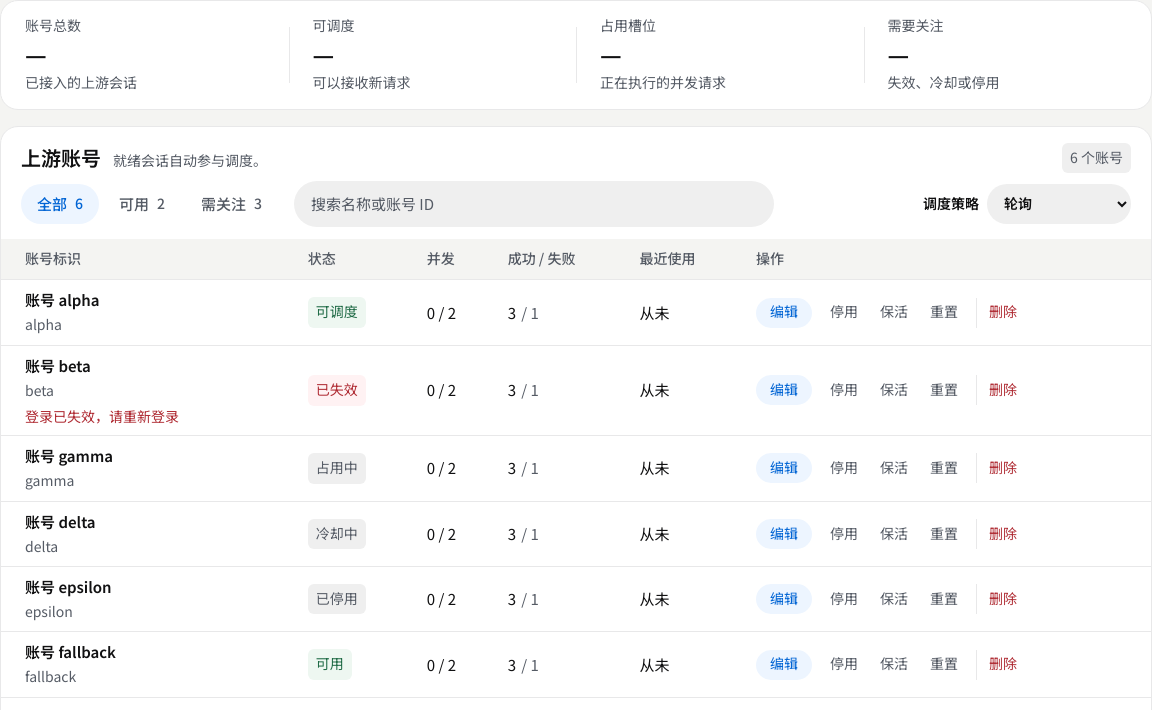
Test case: 账号池 › 按有效状态筛选、保留 busy、支持状态回退及名称/ID 搜索
This screenshot has width=1152, height=710.
Click the button "可用 2": (142,204) 103,184 -> 181,224
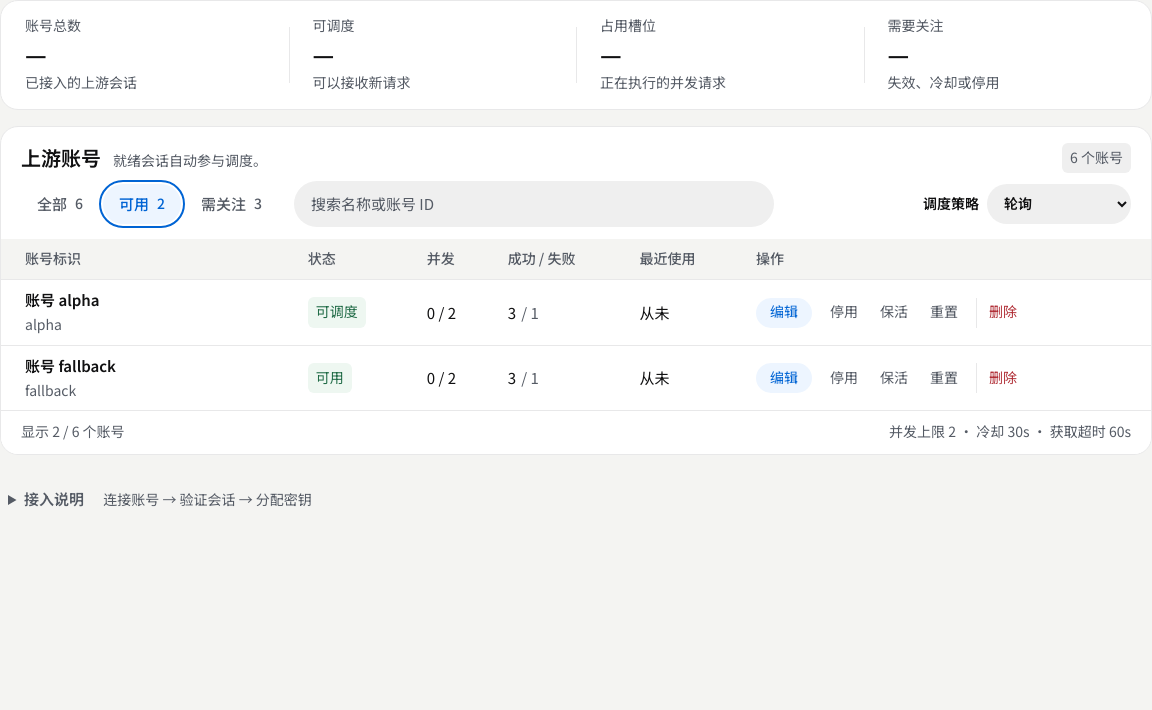
expect the text "账号 alpha" is shown: met, box 25,288 -> 100,312
expect the text "账号 beta" is gone: met
Click the button "需关注 3": (232,204) 185,184 -> 278,224
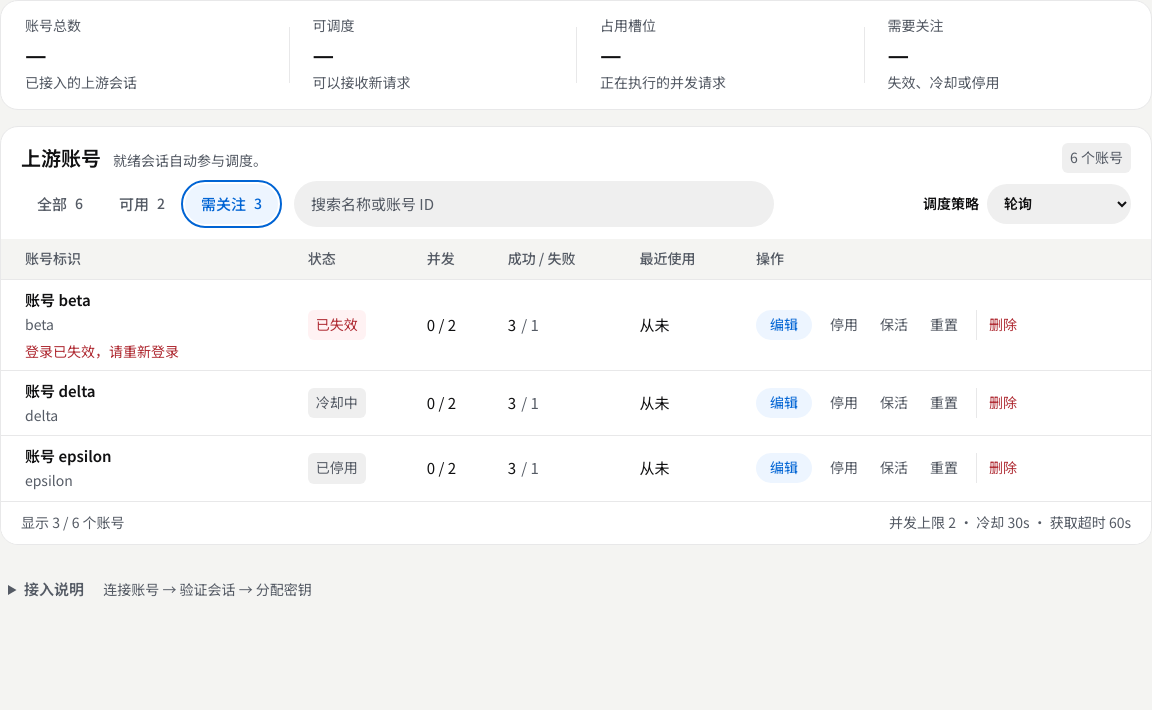
expect the text "账号 gamma" is not shown: met
expect the text "账号 beta" is shown: met, box 25,291 -> 91,309
expect the text "账号 delta" is shown: met, box 25,379 -> 96,403
In the field named "搜索账号": (534,204) 294,181 -> 774,227, type " BETA "
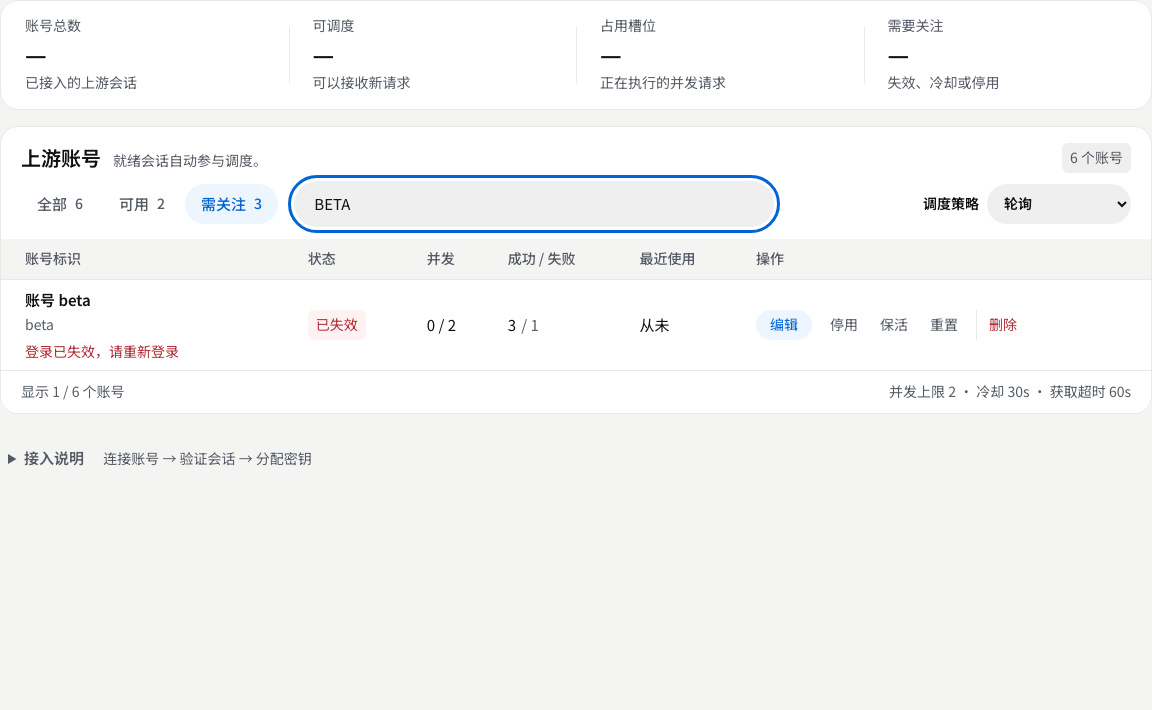
expect the text "账号 beta" is shown: met, box 25,291 -> 91,309
expect the text "账号 delta" is gone: met
Click the button "全部 6": (60,204) 21,184 -> 99,224
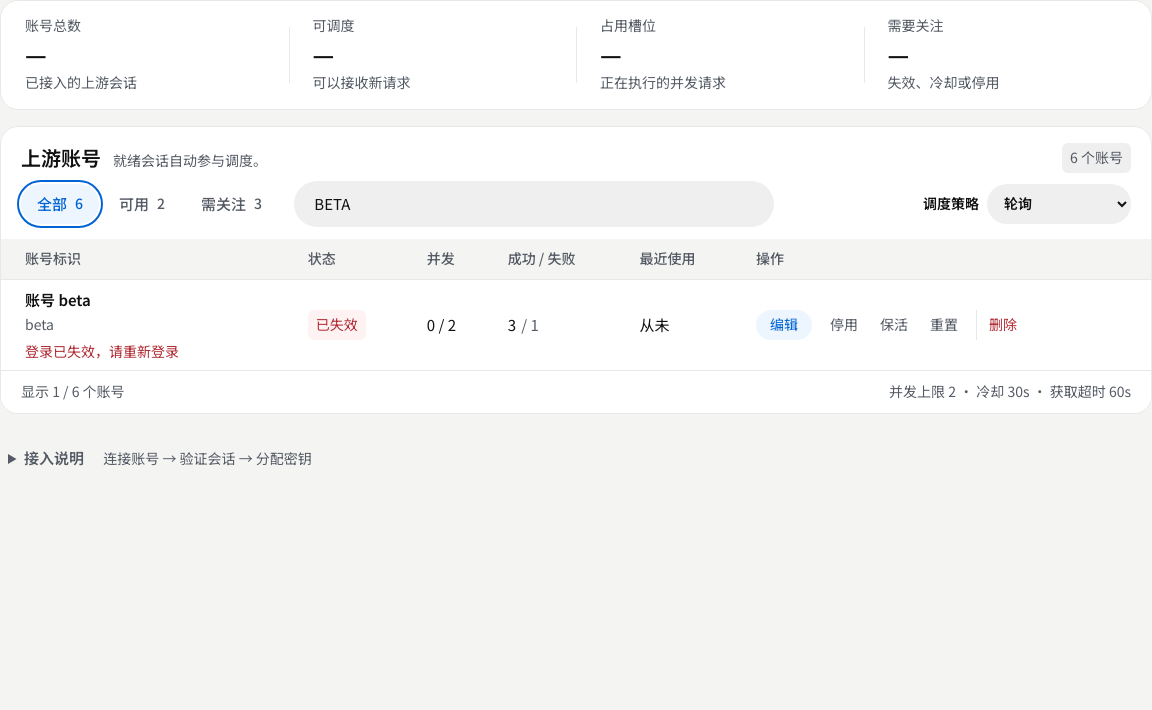
Clear the field named "搜索账号": (534,204) 294,181 -> 774,227
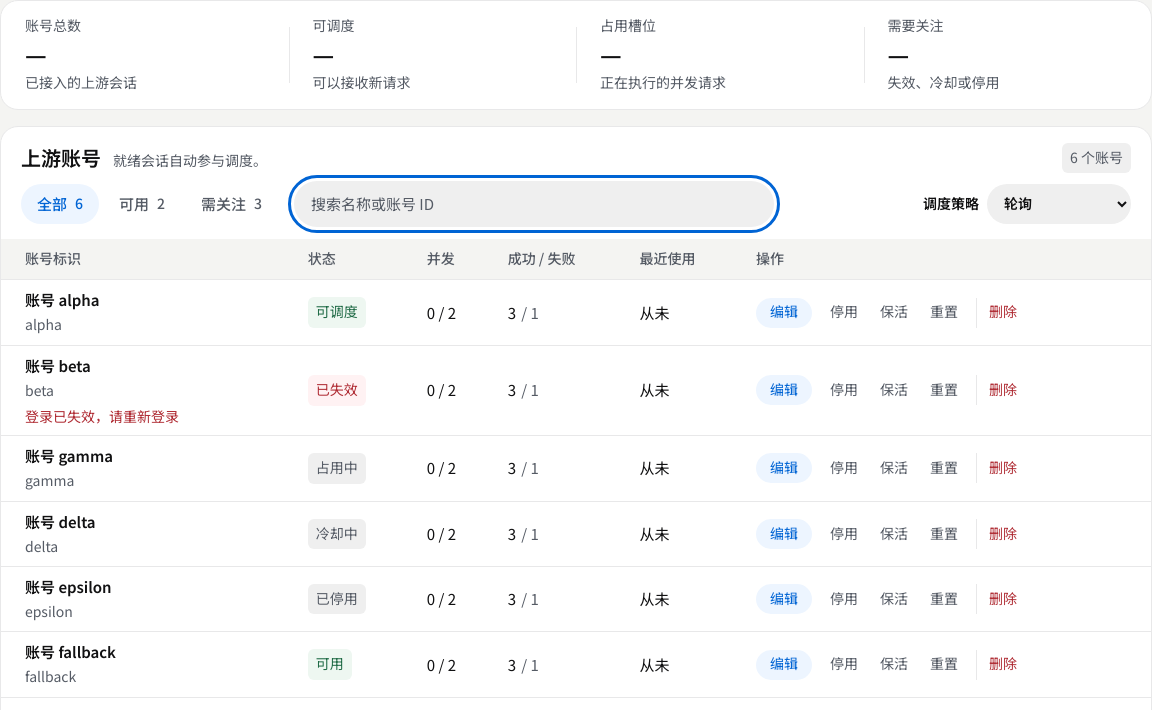
expect the text "账号 gamma" is shown: met, box 25,444 -> 113,468
